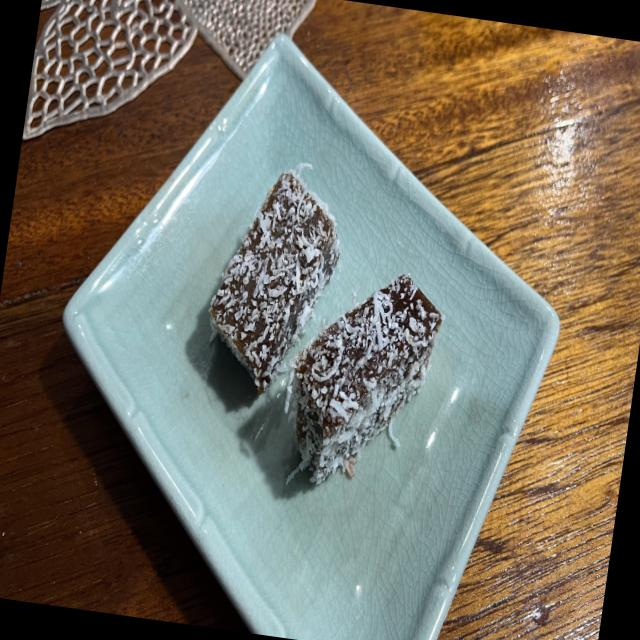kaswi: (290, 274, 443, 484), (209, 163, 340, 394)
